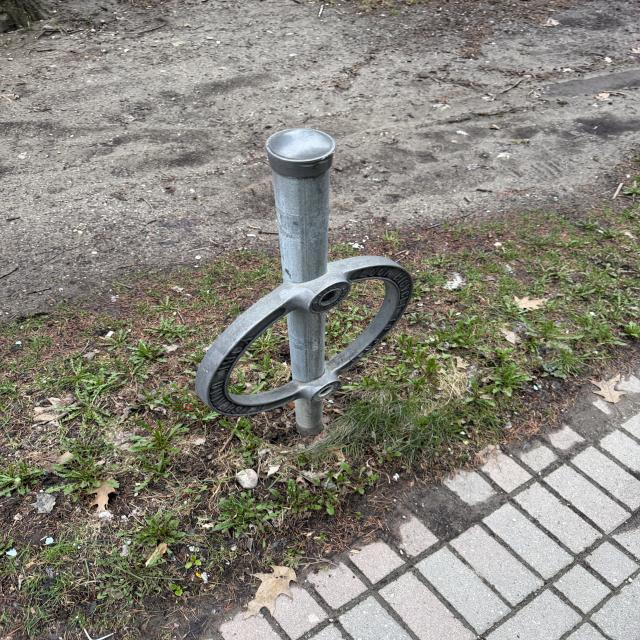Bicycle Rack: (198, 129, 414, 436)
